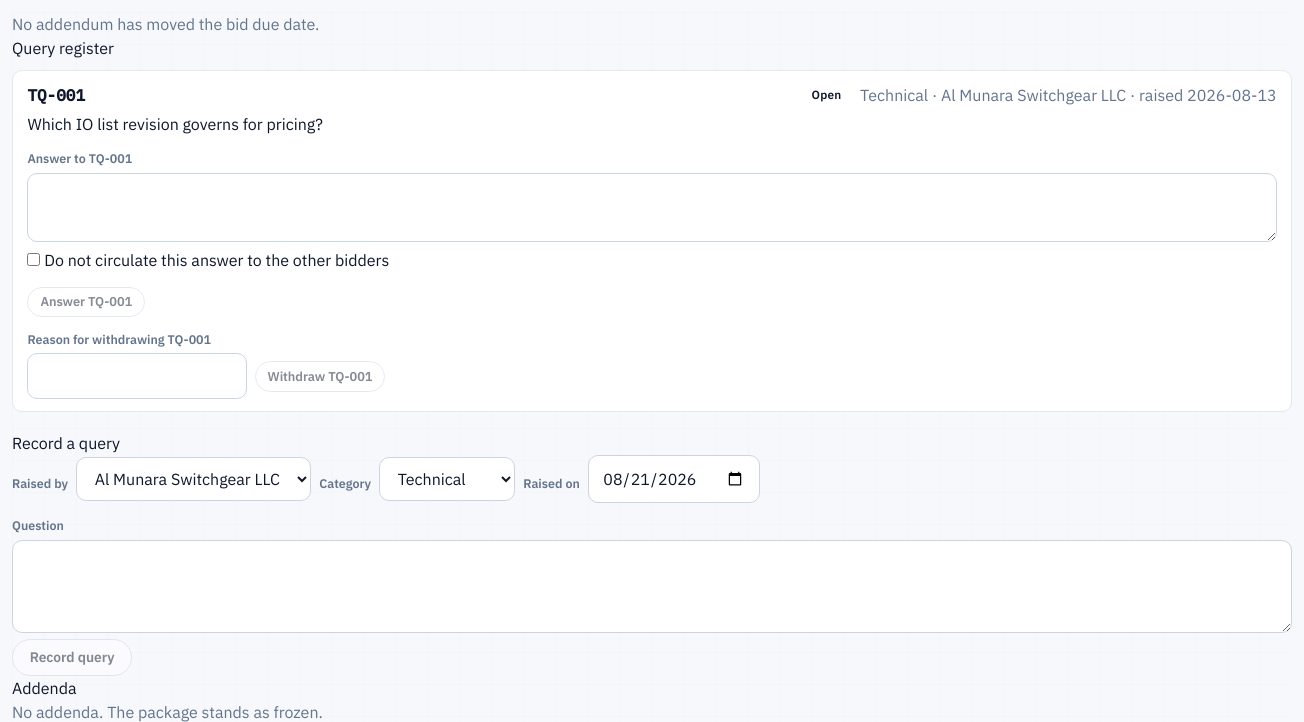
Scenario: ClarificationsStep › reveals a required reason input only when the answer is restricted
This screenshot has width=1304, height=722.
Check: the field labelled "why this answer is not circulated" is not shown
Click the checkbox labelled "Do not circulate this answer to the other bidders" at point(34, 260), box [27,253,40,266]
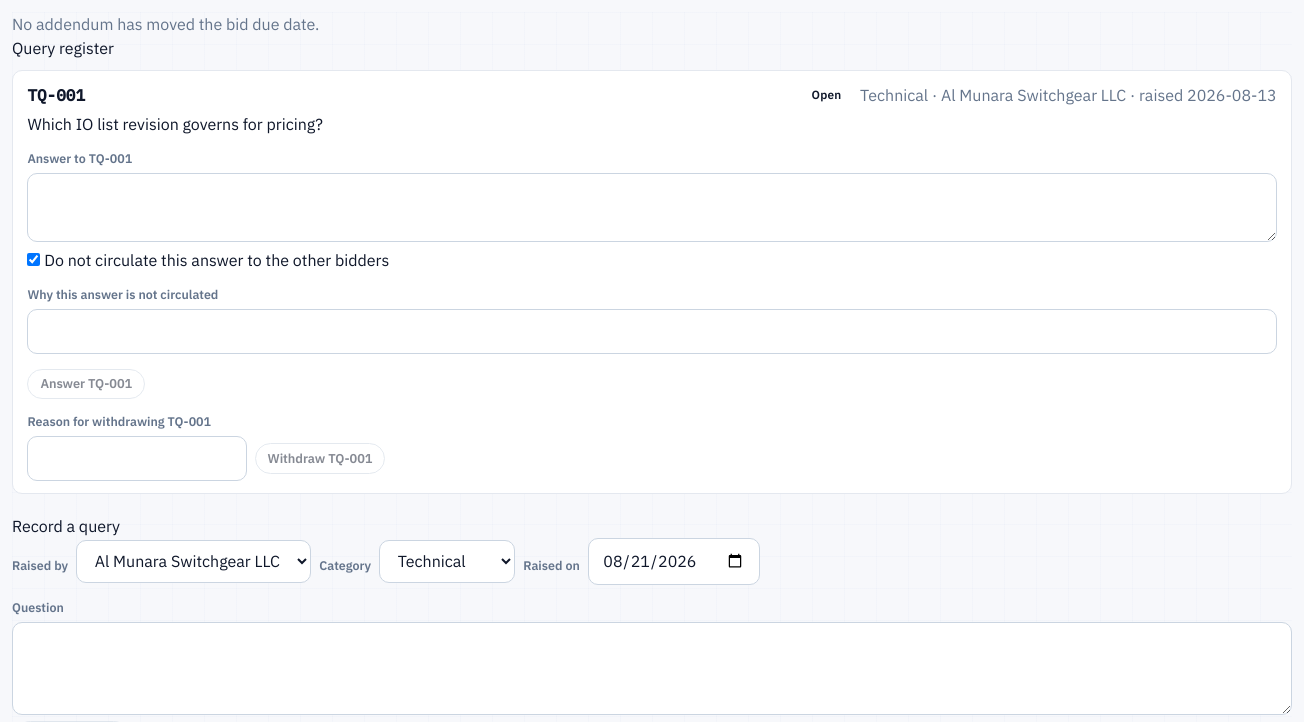
Check: the field labelled "Why this answer is not circulated" is shown, box [27,309,1277,354]
